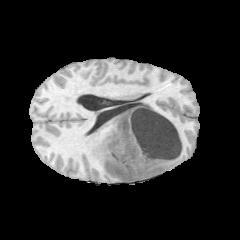glioma: (91, 101, 183, 182)
